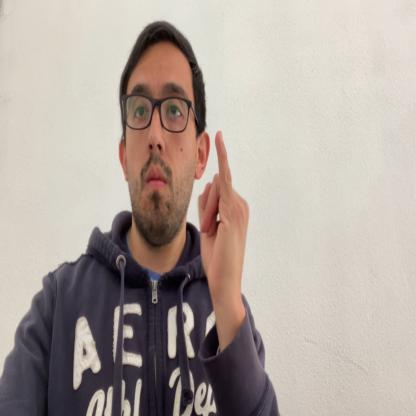I: (197, 132, 249, 282)
